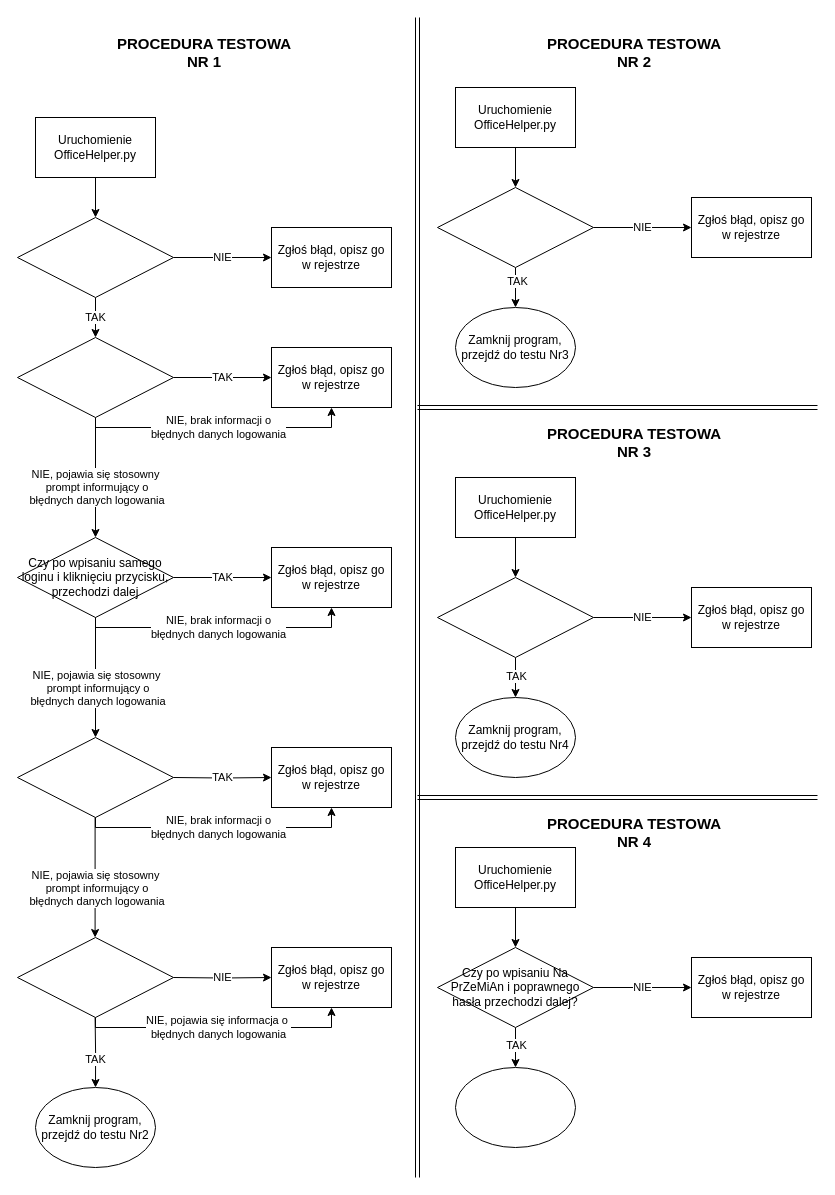
The diagram is 835 pixels wide and 1195 high, and some of its shapes have lost their labels. Here are the shapes that lost their labels. From the top down, the centre of each, then its label:
At point (515, 227): "Czy po wpisaniu loginu CAPS LOCKIEM i poprawnego hasła przechodzi dalej?".
At point (95, 257): "Czy otwiera się Okno Logowania".
At point (95, 377): "Czy po kliknięciu przycisku zaloguj przechodzi dalej".
At point (515, 617): "Czy po wpisaniu loginu małymi literami i poprawnego hasła przechodzi dalej?".
At point (95, 777): "Czy po wpisaniu błędnego loginu / hasła, przechodzi dalej".
At point (95, 977): "Czy po wpisaniu poprawnego hasła i loginu przechodzi dalej".
At point (515, 1107): "Nie zamykaj programu,przejdź do testu Nr5".
